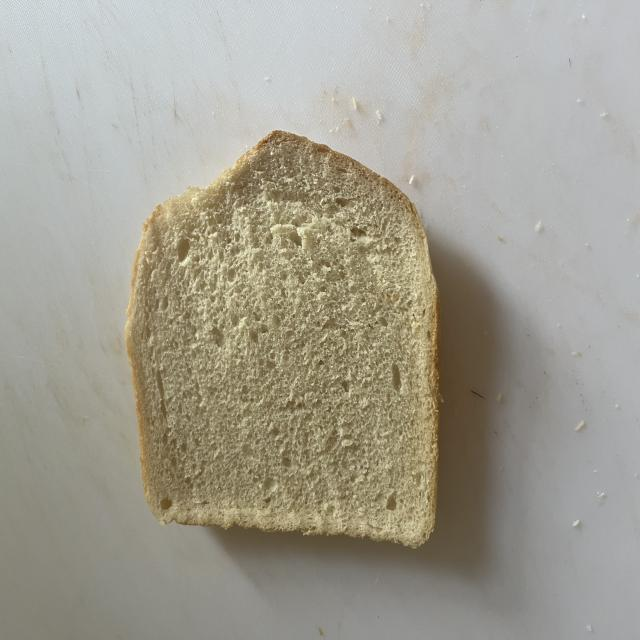sliced_bread: (126, 131, 439, 546)
